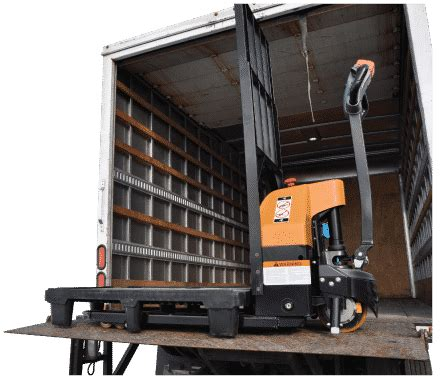Pallet Jack: (44, 3, 381, 337)
